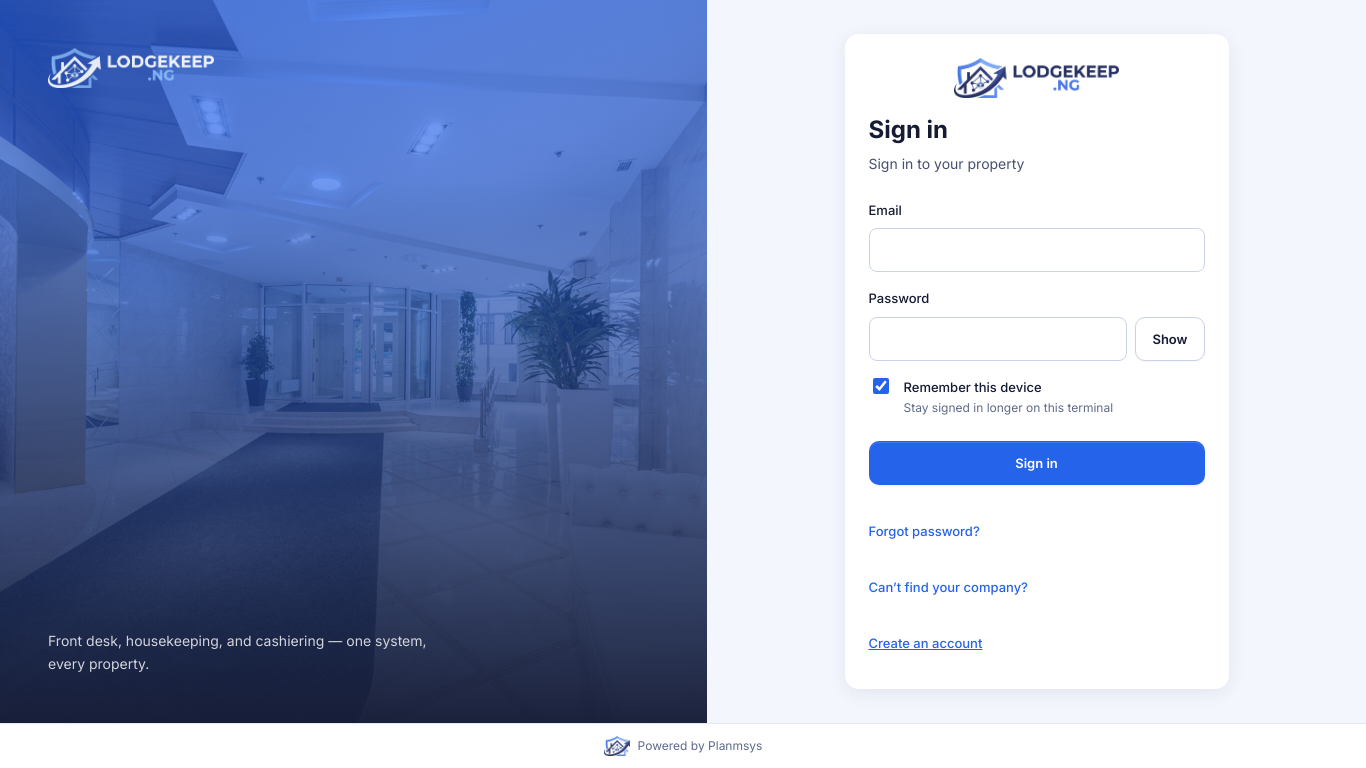
Test: <StaffLoginScreen> › shows the backend's generic invalid-credentials message on failure
Type "wrong@alpha-hotels.example.com" into the field labelled "Email". click: (1036, 250)
box: [868,228,1204,272]
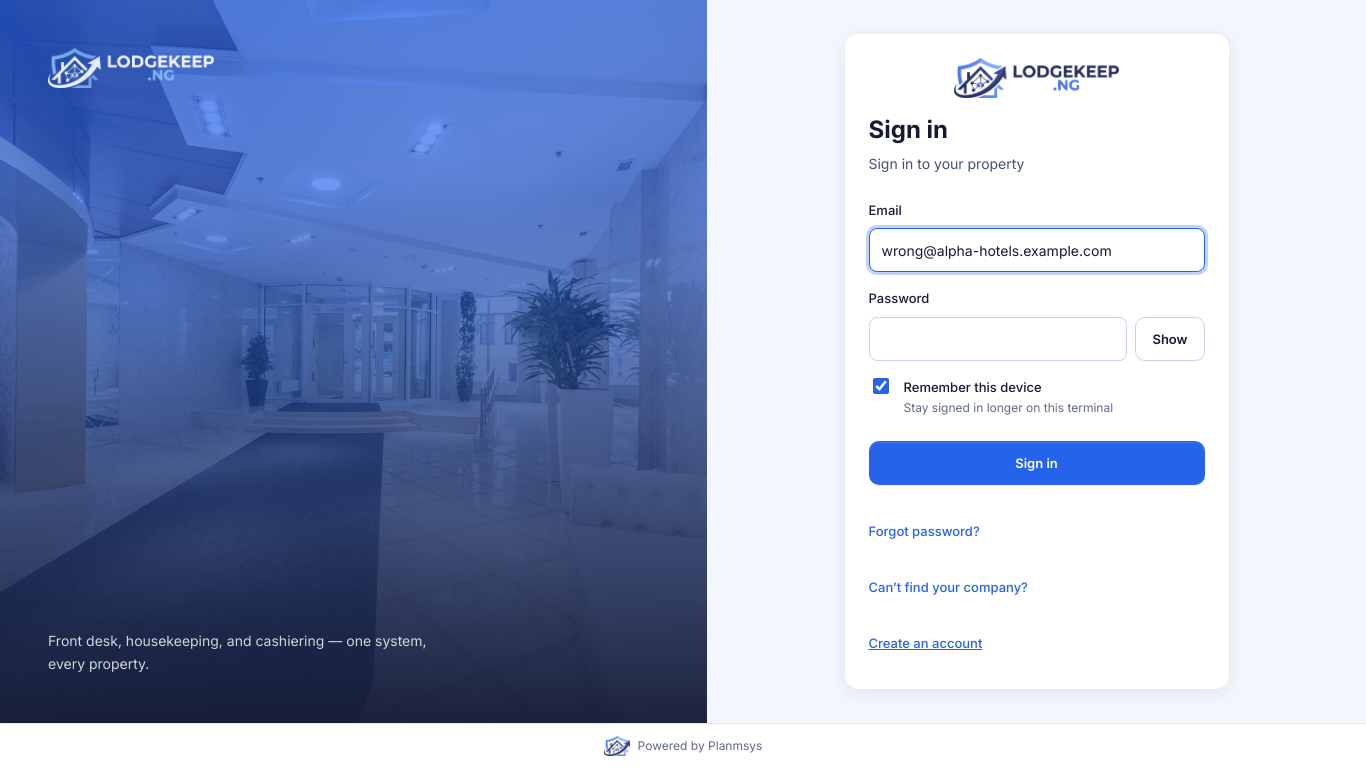
Type "whatever-password" into the password field labelled "Password". click: (998, 339)
box: [868,317,1128,361]
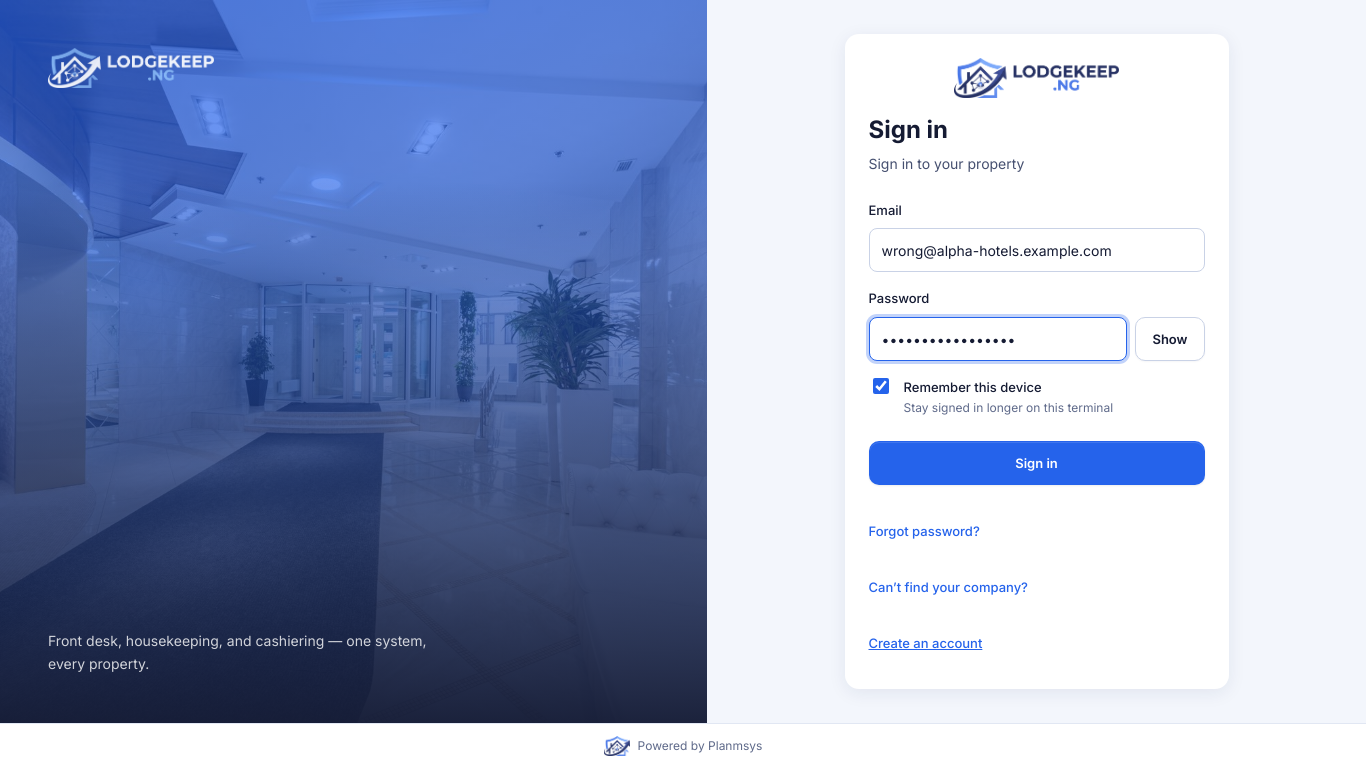
Click the button "Sign in". click: (1036, 463)
box: [868,441,1204,485]
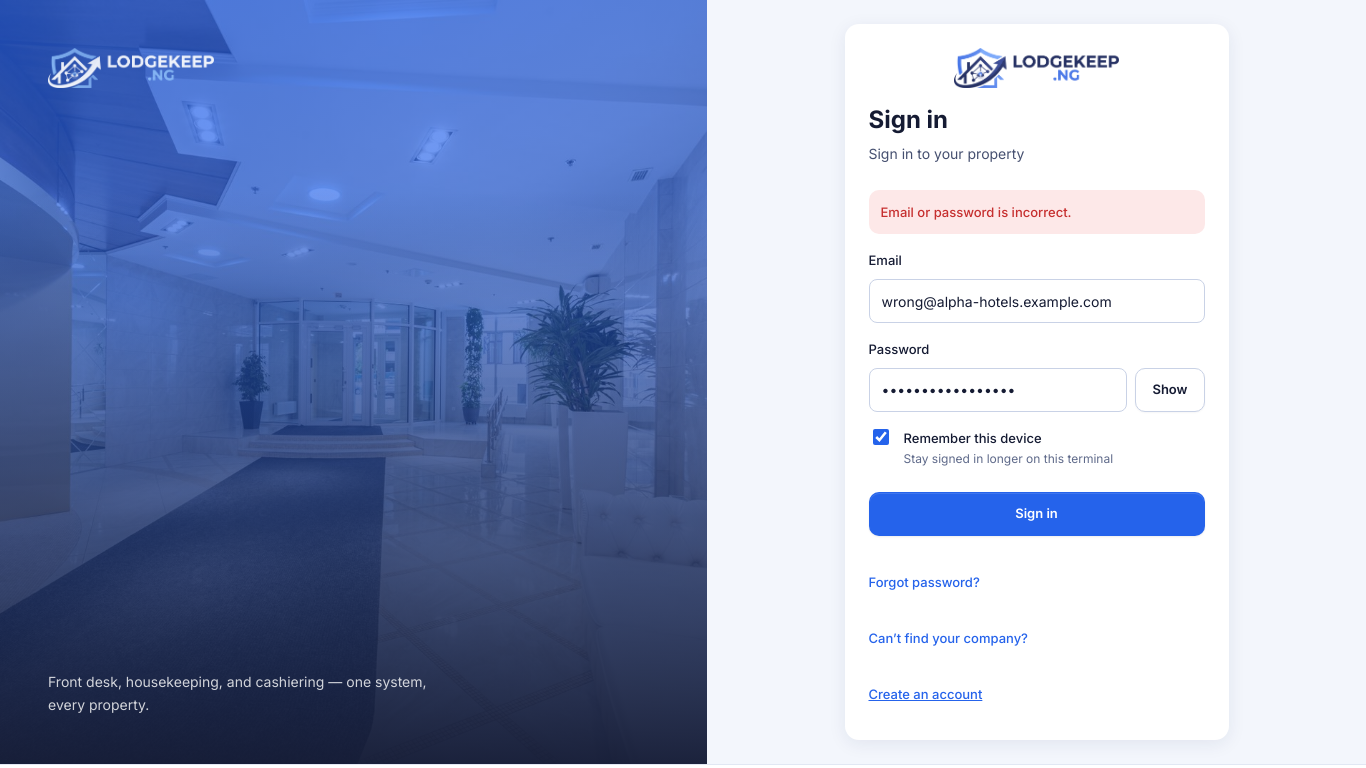
Expected: the message reads "Email or password is incorrect.", [880,204,1072,220]
